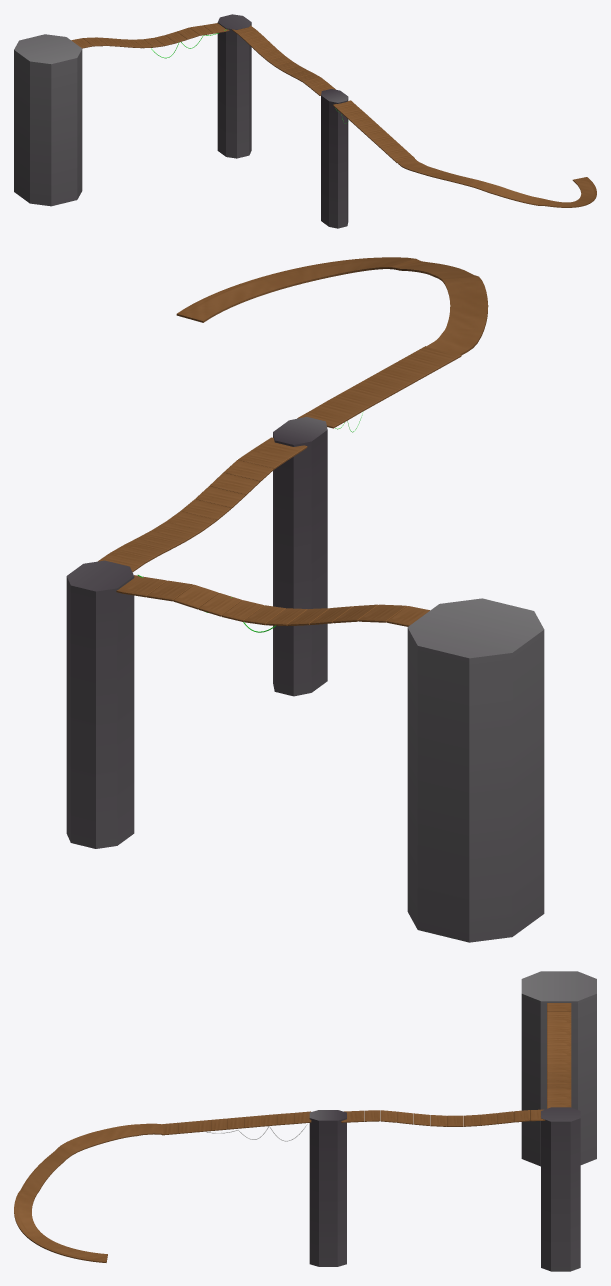
Rendered from PONTES_DO_MAPA_JEdit.fbx.
3 views of the same model, one above another, from view 1: azimuth 30°, elevation 25°; view 2: azimuth 150°, elevation 25°; view 3: azimuth 270°, elevation 25° (orthographic). The views are drawn at different scales.
Visible parts, largest first — view 1: Cube.002, Cube.001, Cube, NurbsPath, Plane.002, Plane.003, Plane.004; view 2: Cube.002, Cube.001, Cube, NurbsPath, Plane.002, Plane.003, Plane.004; view 3: Cube.002, Cube.001, Cube, NurbsPath, Plane.003, Plane.002, Plane.004.
Part boxes in pixels (x1,y1,x2,y2): Cube.002: (14,34,82,206); Cube.001: (217,14,251,158); Cube: (321,89,348,228); NurbsPath: (397,158,596,207); Plane.002: (232,25,335,95); Plane.003: (71,23,229,48); Plane.004: (333,100,414,162); Cube.002: (407,598,544,942); Cube.001: (66,560,134,848); Cube: (273,417,327,696); NurbsPath: (176,257,488,354); Plane.002: (98,437,307,572); Plane.003: (116,575,429,626); Plane.004: (297,346,461,428); Cube.002: (521,971,596,1166); Cube.001: (541,1107,580,1271); Cube: (309,1110,346,1266); NurbsPath: (14,1123,163,1262); Plane.003: (547,1003,571,1108); Plane.002: (341,1109,545,1126); Plane.004: (162,1111,311,1135).
Bounding box in the file's own units: 2410 × 919 × 2824.
